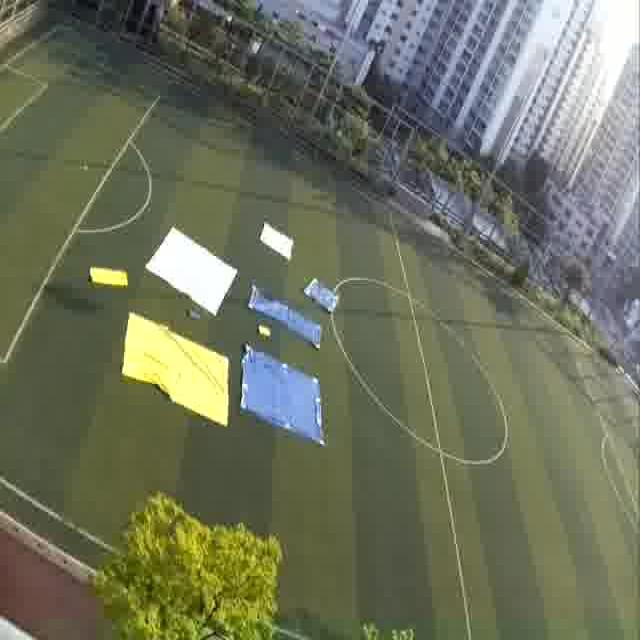danger: (246, 357, 319, 437), (256, 295, 293, 326), (308, 281, 338, 313)
safety: (156, 232, 230, 296), (263, 227, 296, 258)
warning: (131, 332, 214, 396), (92, 266, 128, 286)
